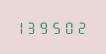five: (54, 20, 65, 34)
nine: (42, 20, 53, 34)
one: (17, 20, 28, 34)
three: (29, 20, 40, 34)
two: (78, 20, 89, 34)
zero: (66, 20, 77, 34)
